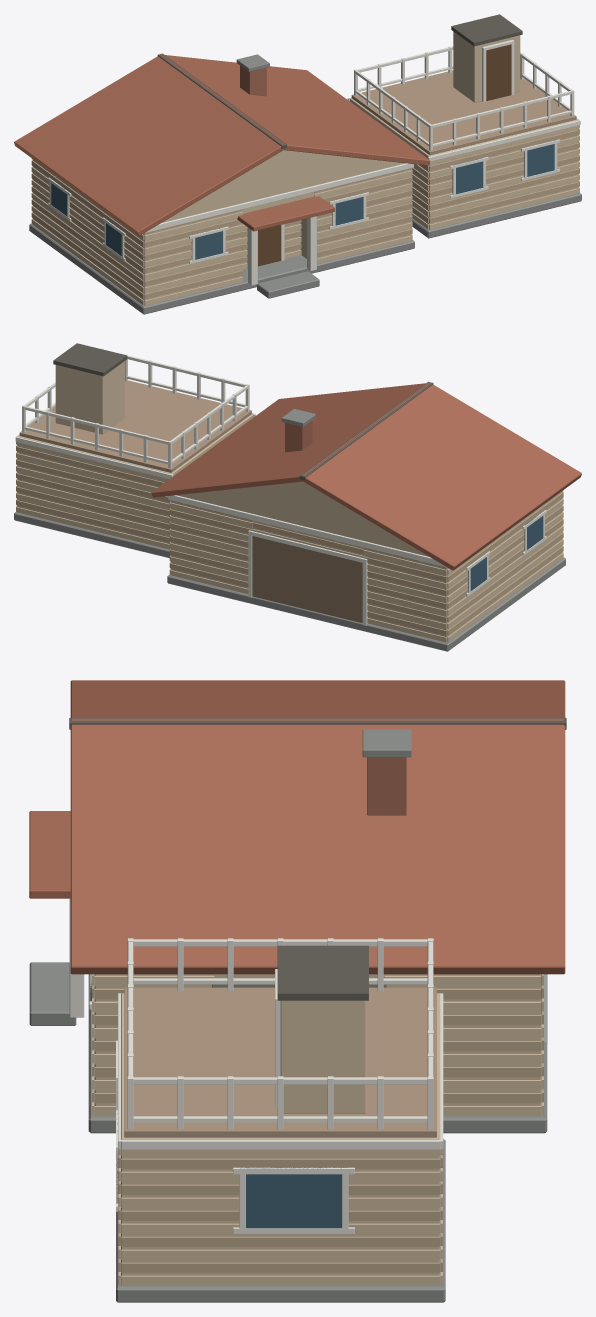
The model's file is FTF_House_Large_PorchTerrace_BrownRed_v4.glb.
3 renders of one model, top to bottom at view 1: azimuth 30°, elevation 25°; view 2: azimuth 150°, elevation 25°; view 3: azimuth 270°, elevation 25°, orthographic. The views are drawn at different scales.
Parts seen in each view (by area): view 1: FTF_House_Large_PorchTerrace_BrownRed_v4_Mesh; view 2: FTF_House_Large_PorchTerrace_BrownRed_v4_Mesh; view 3: FTF_House_Large_PorchTerrace_BrownRed_v4_Mesh.
Boxes of the visible parts, <box> form: FTF_House_Large_PorchTerrace_BrownRed_v4_Mesh: <box>14,14,581,314</box>; FTF_House_Large_PorchTerrace_BrownRed_v4_Mesh: <box>14,343,581,651</box>; FTF_House_Large_PorchTerrace_BrownRed_v4_Mesh: <box>29,680,566,1302</box>.
Bounding box in the file's own units: 19.82 × 6.41 × 10.1.
